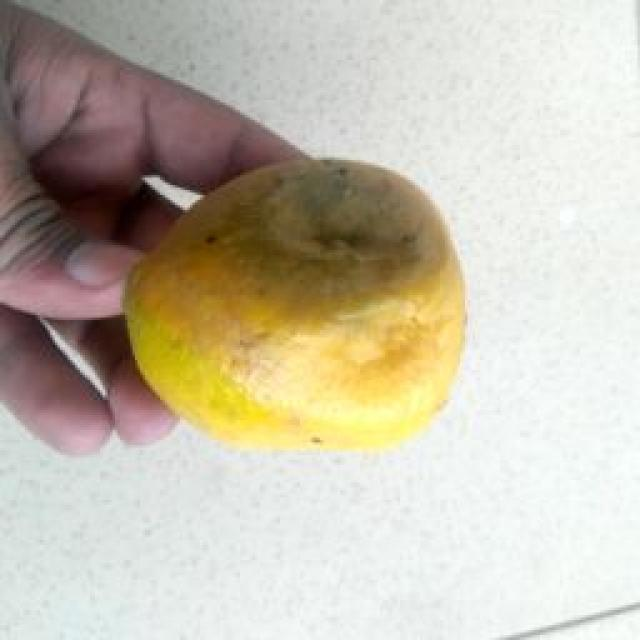Bad_Orange: (125, 160, 465, 448)
